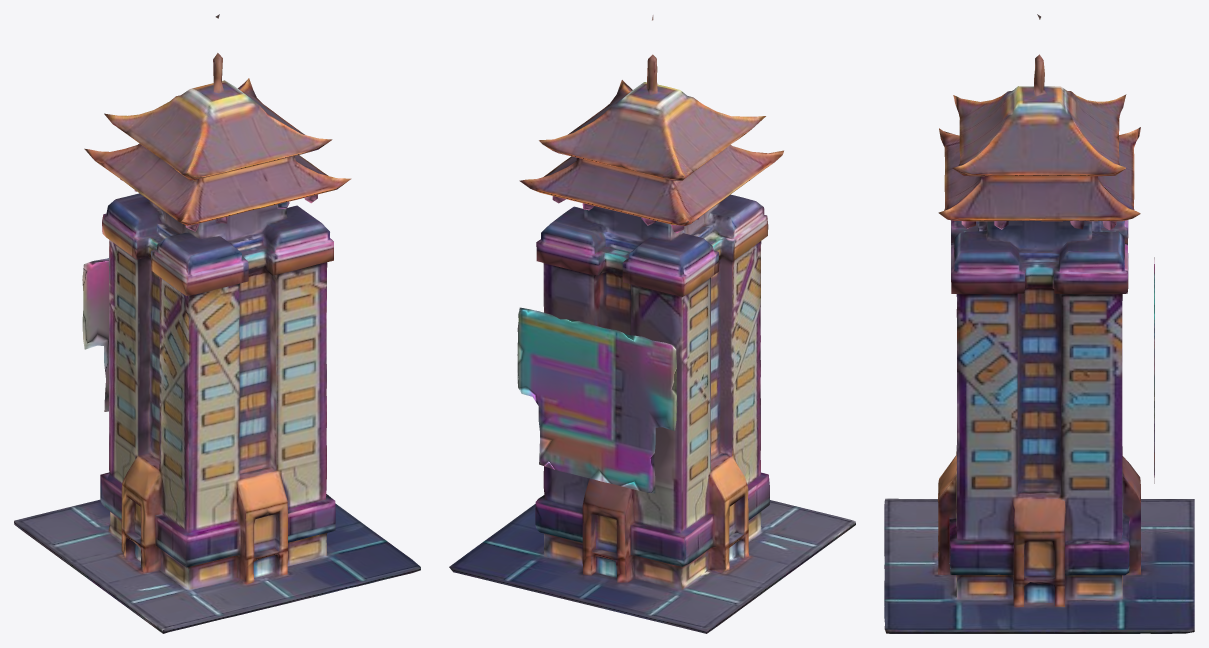
The model's file is tower-05.glb.
The picture shows the model from 3 angles, left to right: view 1: azimuth 30°, elevation 25°; view 2: azimuth 150°, elevation 25°; view 3: azimuth 270°, elevation 25°; orthographic projection. The views are drawn at different scales.
Visible parts, largest first — view 1: model; view 2: model; view 3: model.
Boxes of the visible parts, left/top/right/bottom form: model: left=14, top=14, right=420, bottom=633; model: left=449, top=15, right=855, bottom=633; model: left=884, top=14, right=1194, bottom=633.
Bounding box in the file's own units: 0.9561 × 1.89 × 0.9564.
Materials: 1 (1 with a texture image).
